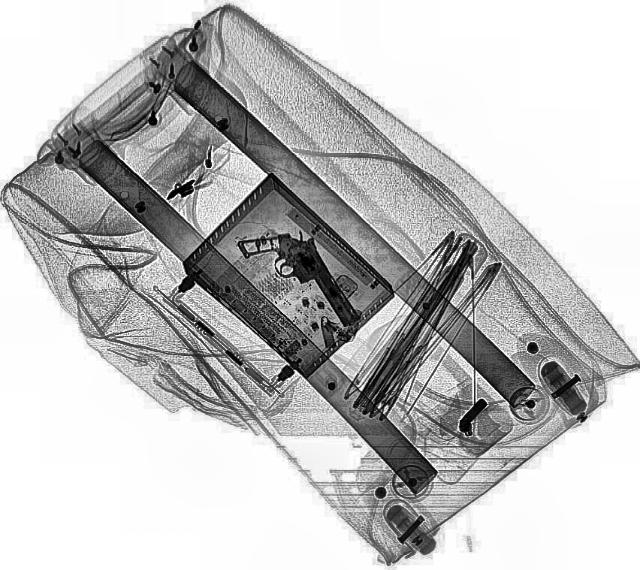Gun: (233, 216, 359, 346)
